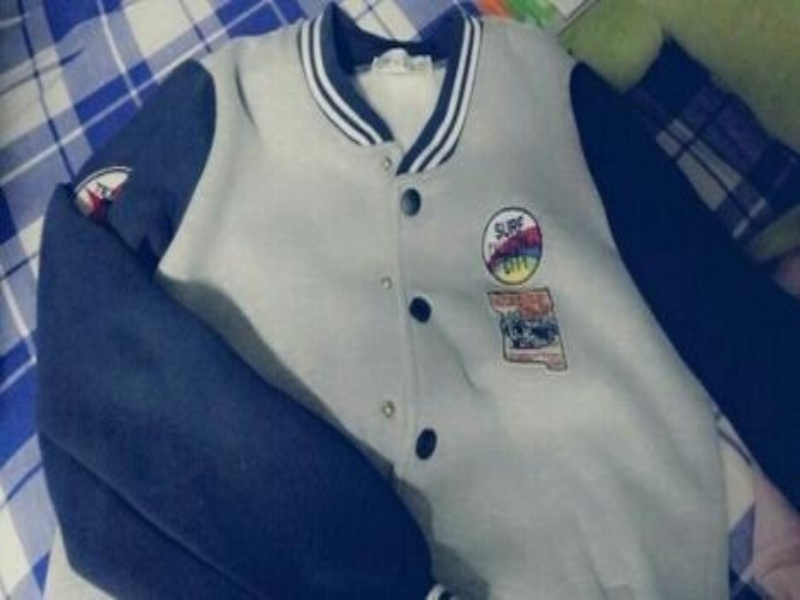long_sleeved_shirt: (15, 0, 798, 595)
